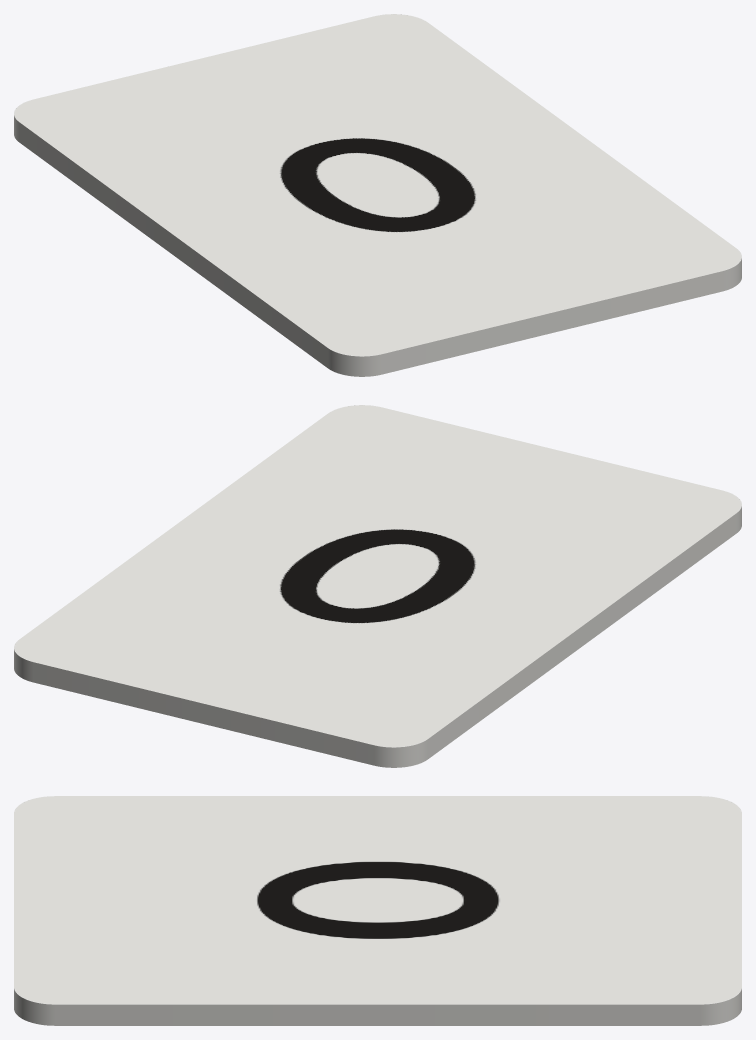
Rendered from white_0.glb.
3 renders of one model, top to bottom at view 1: azimuth 30°, elevation 25°; view 2: azimuth 150°, elevation 25°; view 3: azimuth 270°, elevation 25°, orthographic. The views are drawn at different scales.
Visible parts, largest first — view 1: white_0; view 2: white_0; view 3: white_0.
Boxes of the visible parts, <box> form: white_0: <box>14,14,741,376</box>; white_0: <box>14,405,741,767</box>; white_0: <box>14,796,741,1025</box>.
Bounding box in the file's own units: 0.042 × 0.002 × 0.062.
2 materials, 1 textured.
